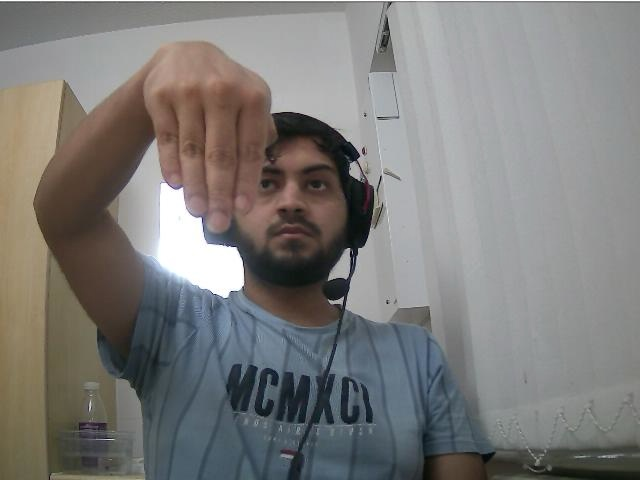down: (145, 37, 269, 234)
